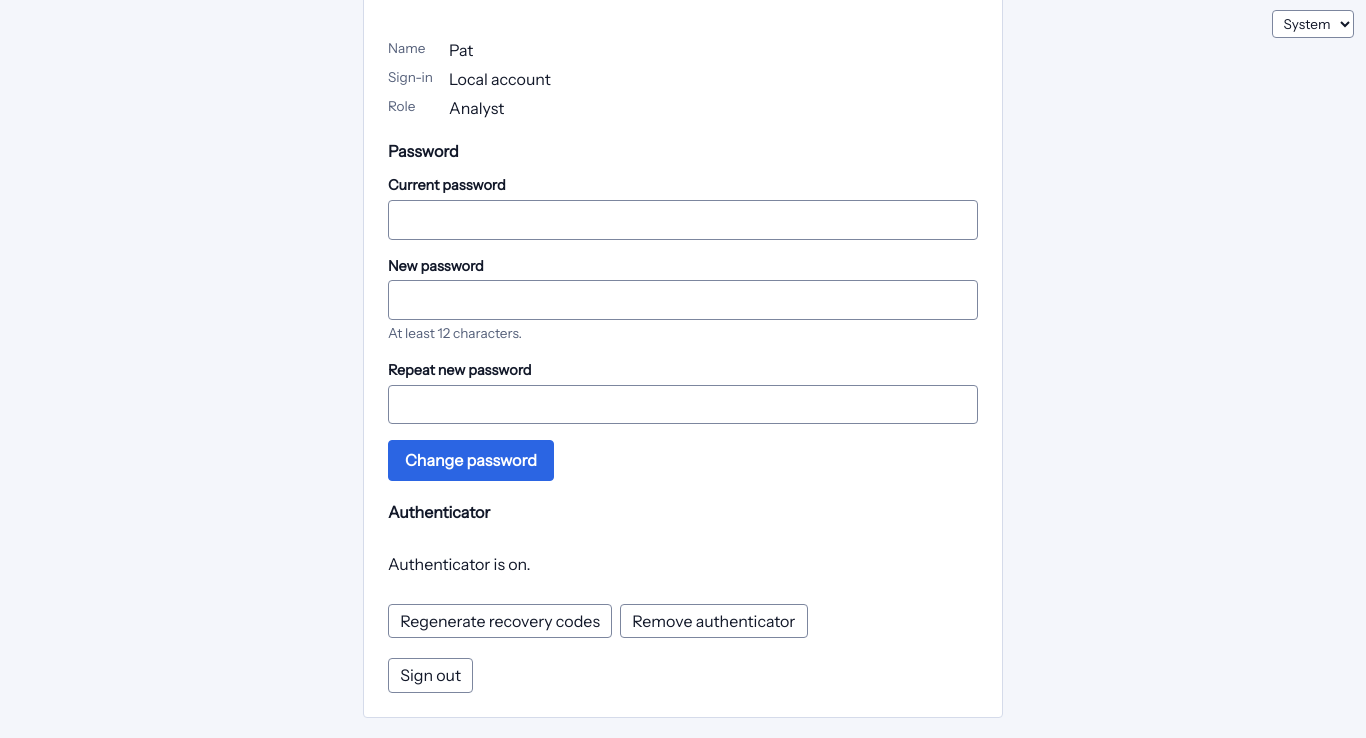
Test: AccountPage › remove authenticator asks for the password and shows totp_required as "Your administrator requires an authenticator for local accounts."
(page scrolled)
Click the button "Remove authenticator".
click(714, 621)  # box [620,604,808,638]
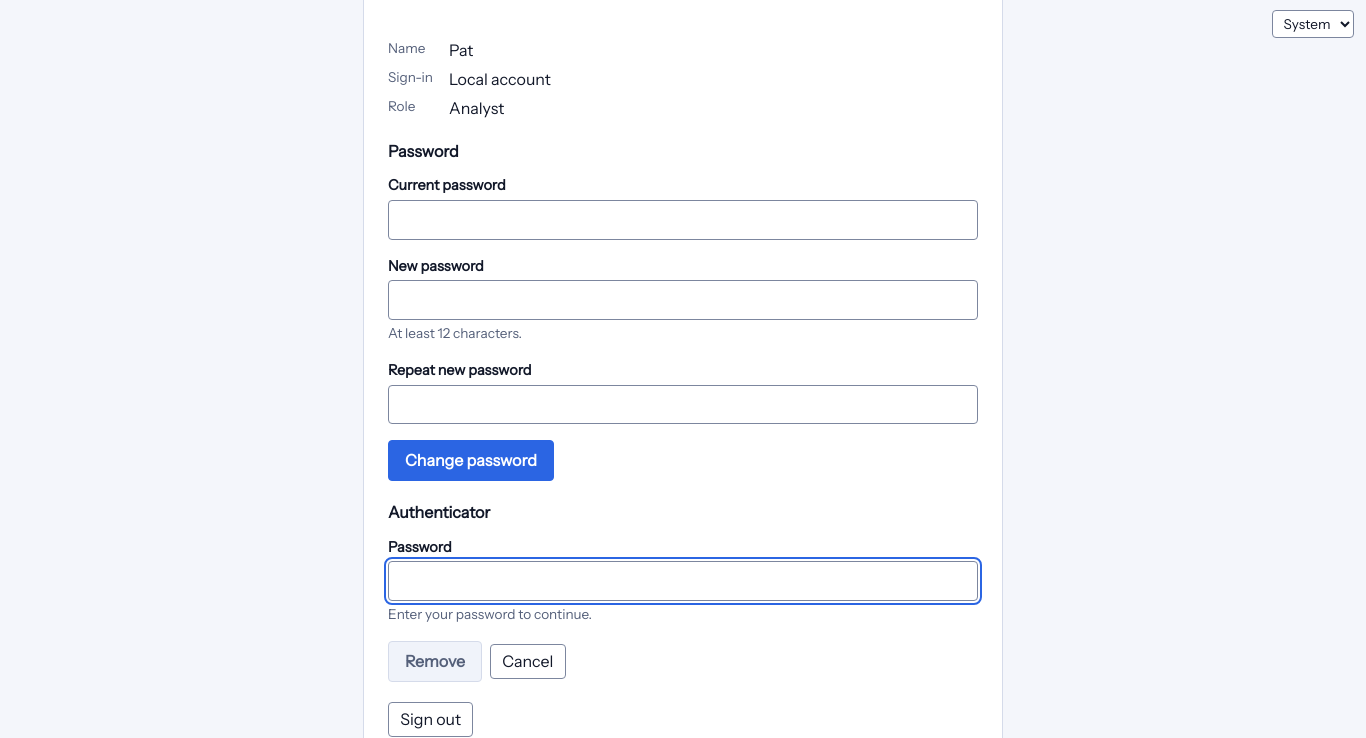
Type "pw-123456789012" into the password field labelled "Password".
click(683, 581); type("pw-123456789012")  # box [388,561,978,601]
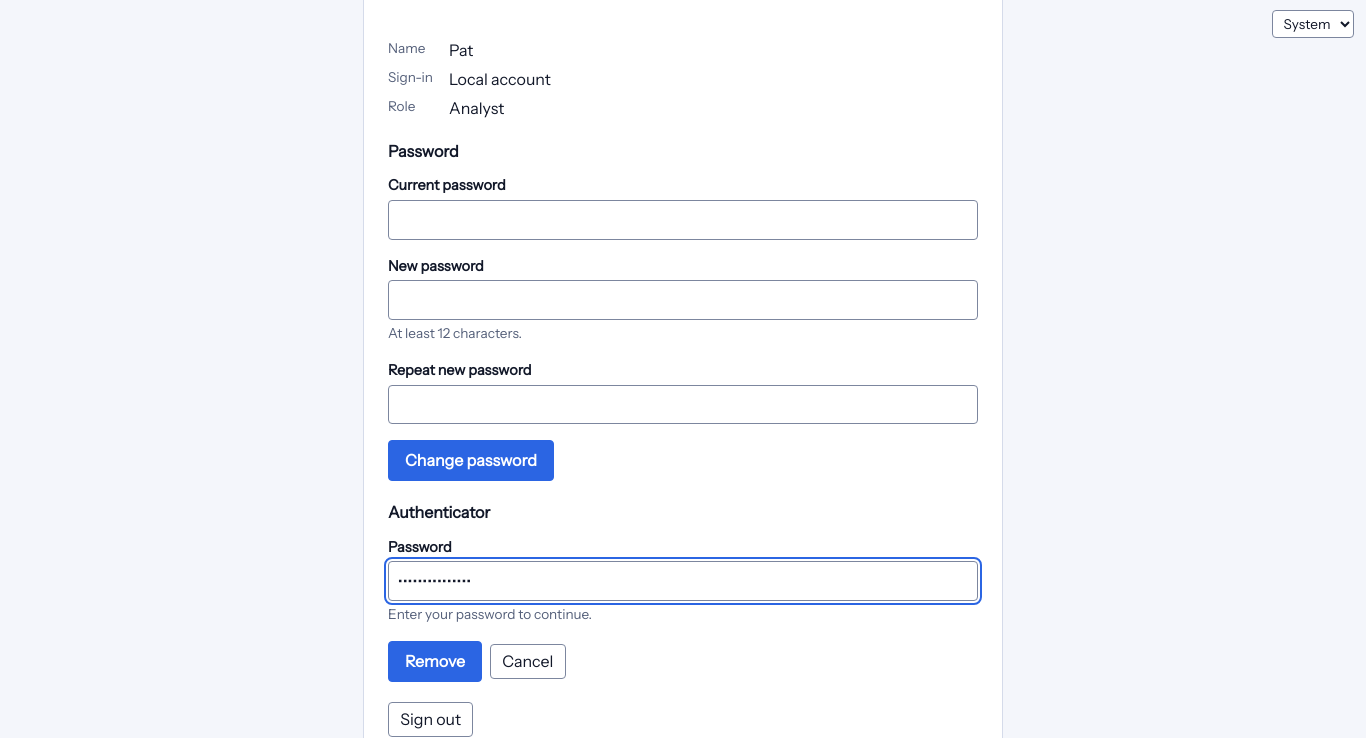
Click the button "Remove".
click(435, 661)  # box [388,641,482,682]
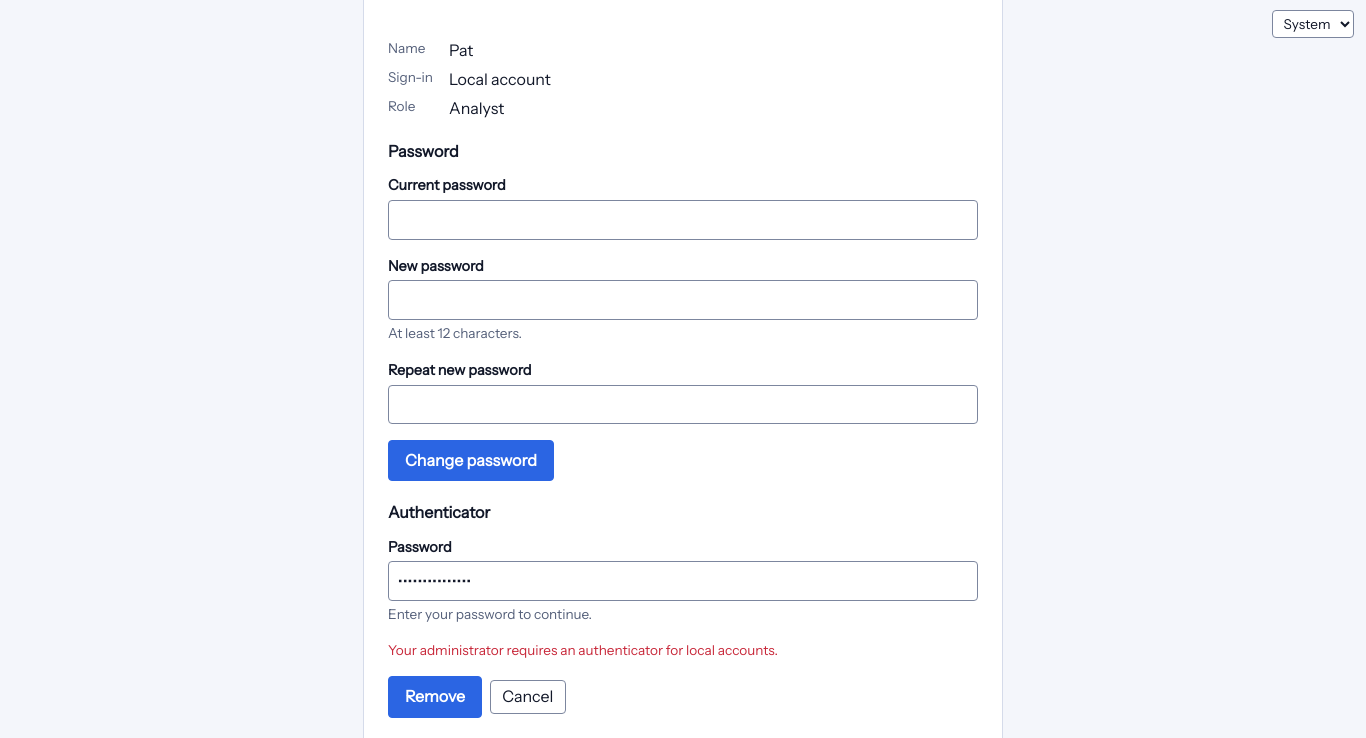
Now the message reads "Your administrator requires an authenticator for local accounts.", box [388,642,778,658]
